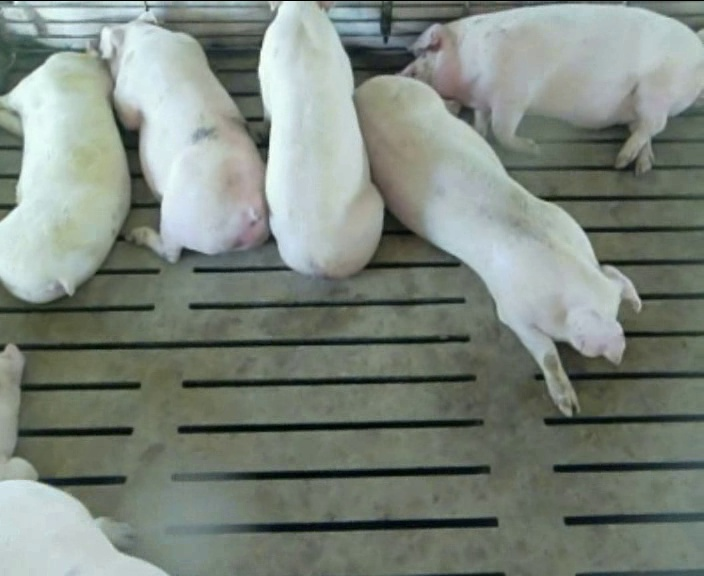pig: (355, 76, 639, 415), (100, 11, 268, 261), (259, 1, 383, 277), (0, 41, 129, 302)
